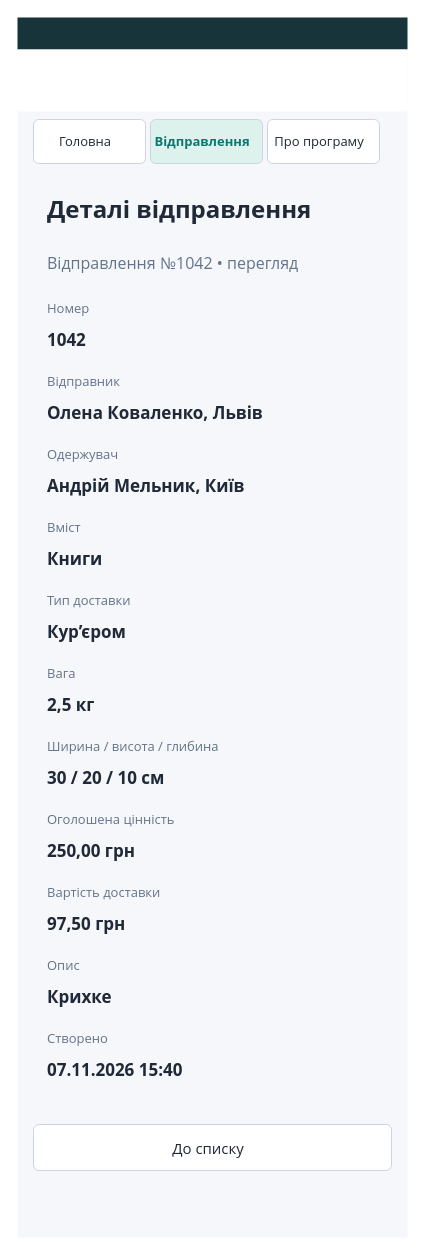
Some shapes in this 424 by 1254 pixel diagram are drawn without their labels. Each missing label, with the box of its shape:
9:41 4G 100%: (17, 17, 407, 49)
PostService: (17, 49, 407, 111)
